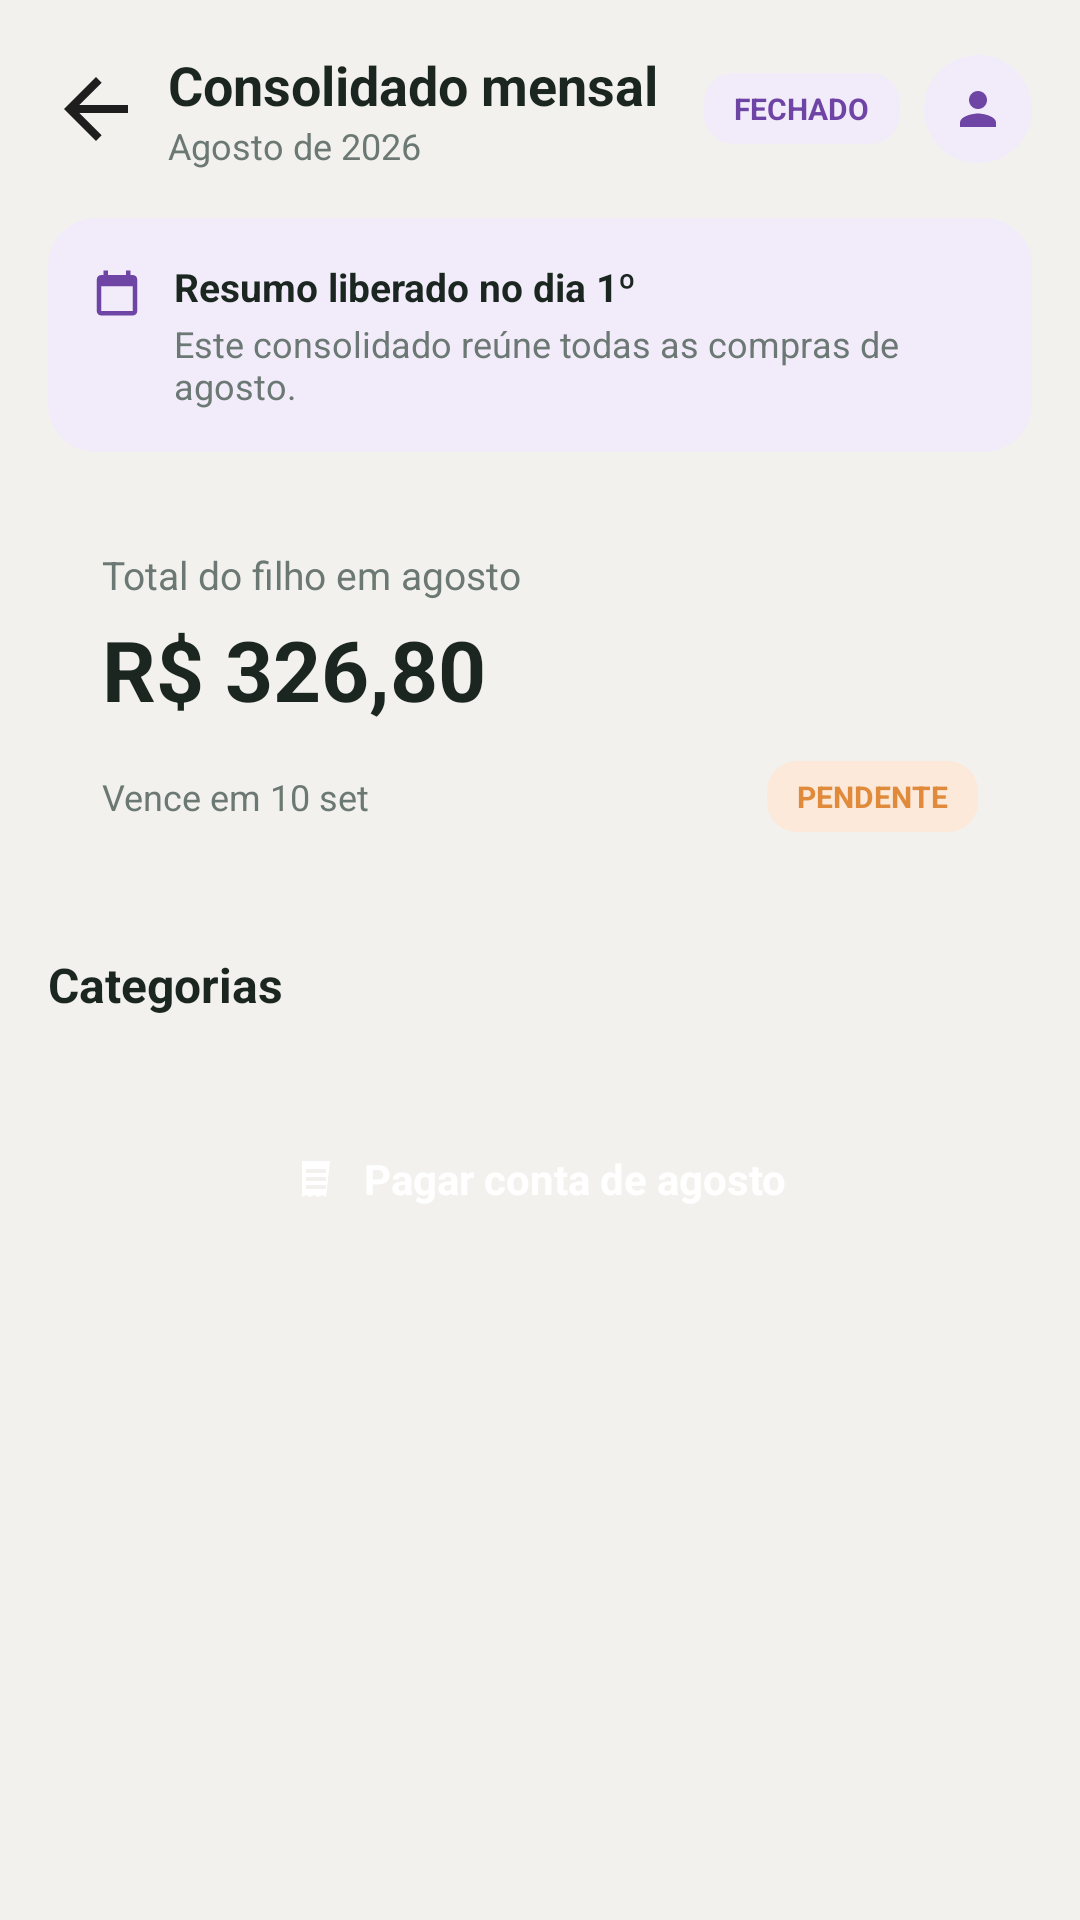

Named icons in this screenshot (1080px x 1920px) and their bounding boxes, (x1=x1, y1=y1, x2=x2, y2=y2):
arrow back: (x1=64, y1=77, x2=128, y2=141)
calendar: (x1=96, y1=270, x2=138, y2=316)
person: (x1=960, y1=91, x2=996, y2=127)
